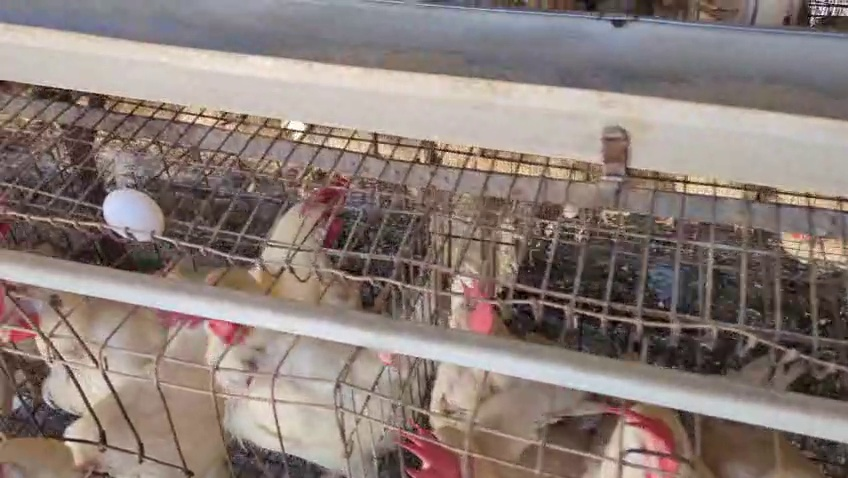egg: (97, 175, 171, 253)
